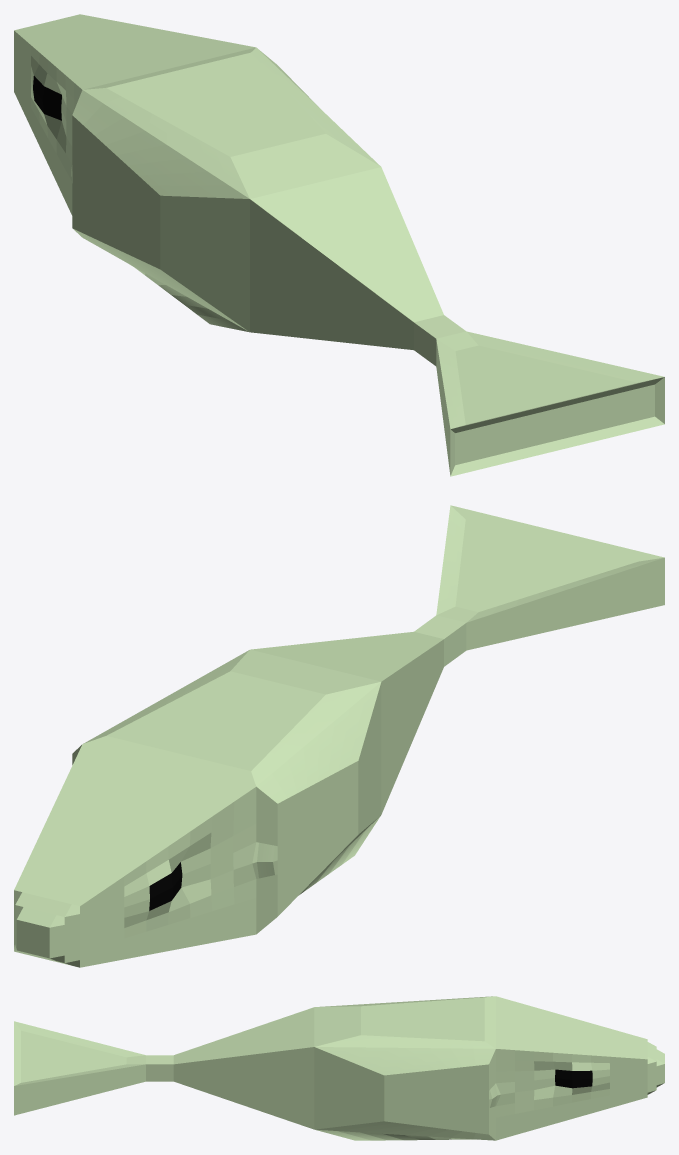
The model's file is toxicFish.fbx.
3 renders of one model, top to bottom at view 1: azimuth 30°, elevation 25°; view 2: azimuth 150°, elevation 25°; view 3: azimuth 270°, elevation 25°, orthographic. The views are drawn at different scales.
Parts seen in each view (by area): view 1: Cube; view 2: Cube; view 3: Cube.
Part boxes in pixels (<box>): Cube: <box>14,14,664,476</box>; Cube: <box>14,505,664,967</box>; Cube: <box>14,996,664,1140</box>.
Bounding box in the file's own units: 571 × 408 × 2417.
